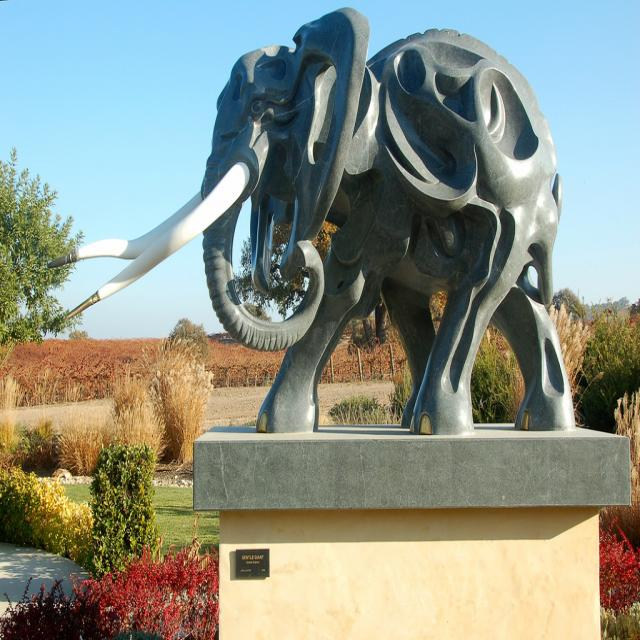elephant: (48, 5, 576, 435)
